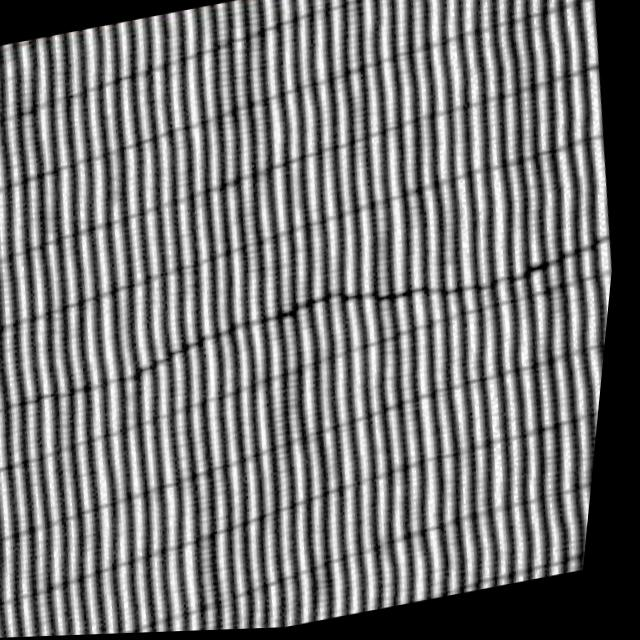Stitch: (117, 211, 623, 414)
